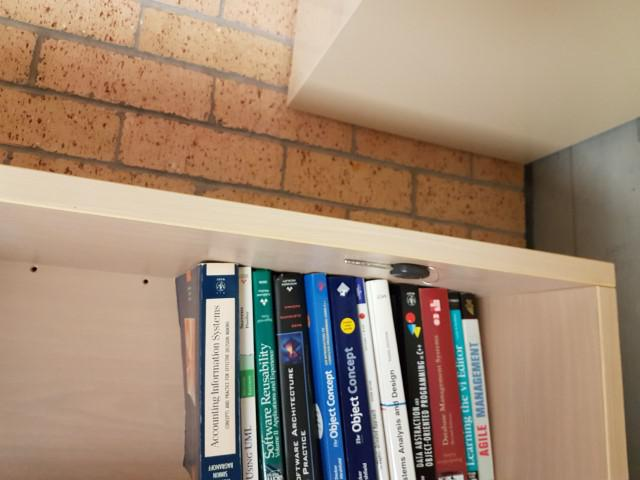key: (342, 257, 438, 281)
